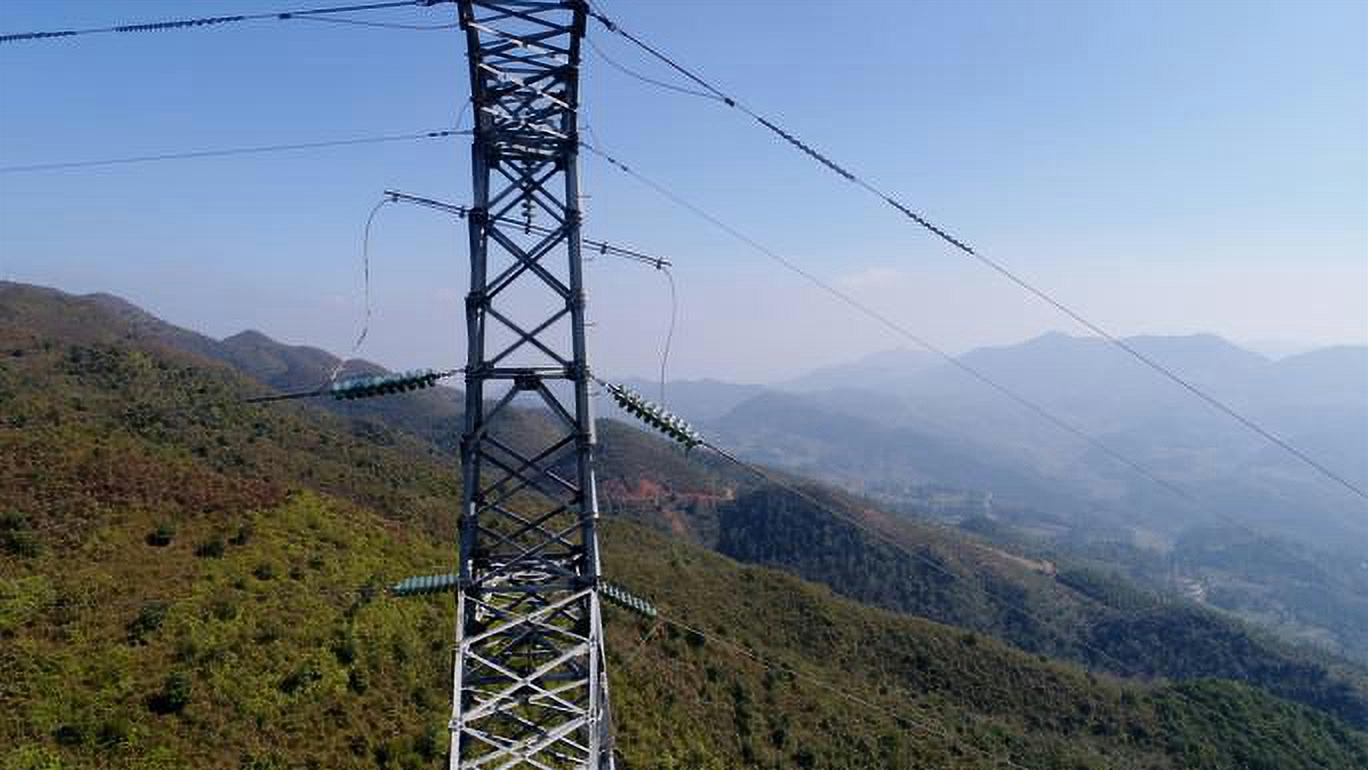insulator: (608, 380, 707, 453), (324, 363, 441, 406), (597, 577, 660, 622), (390, 568, 461, 600)
